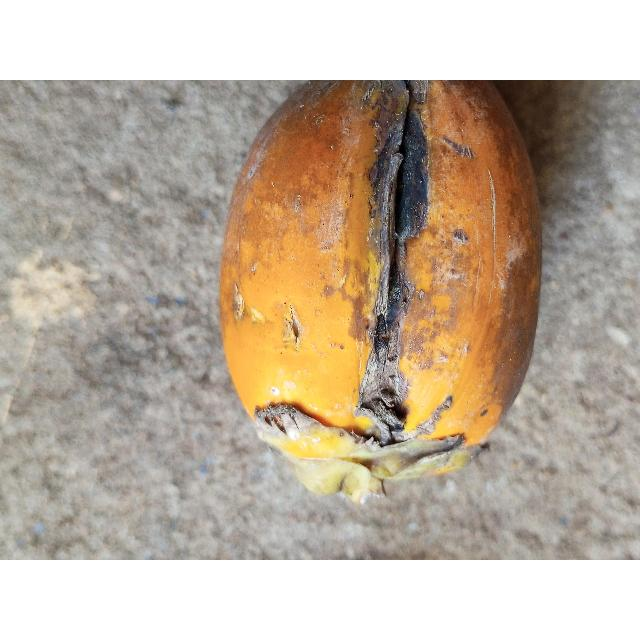damaged: (216, 80, 543, 503)
